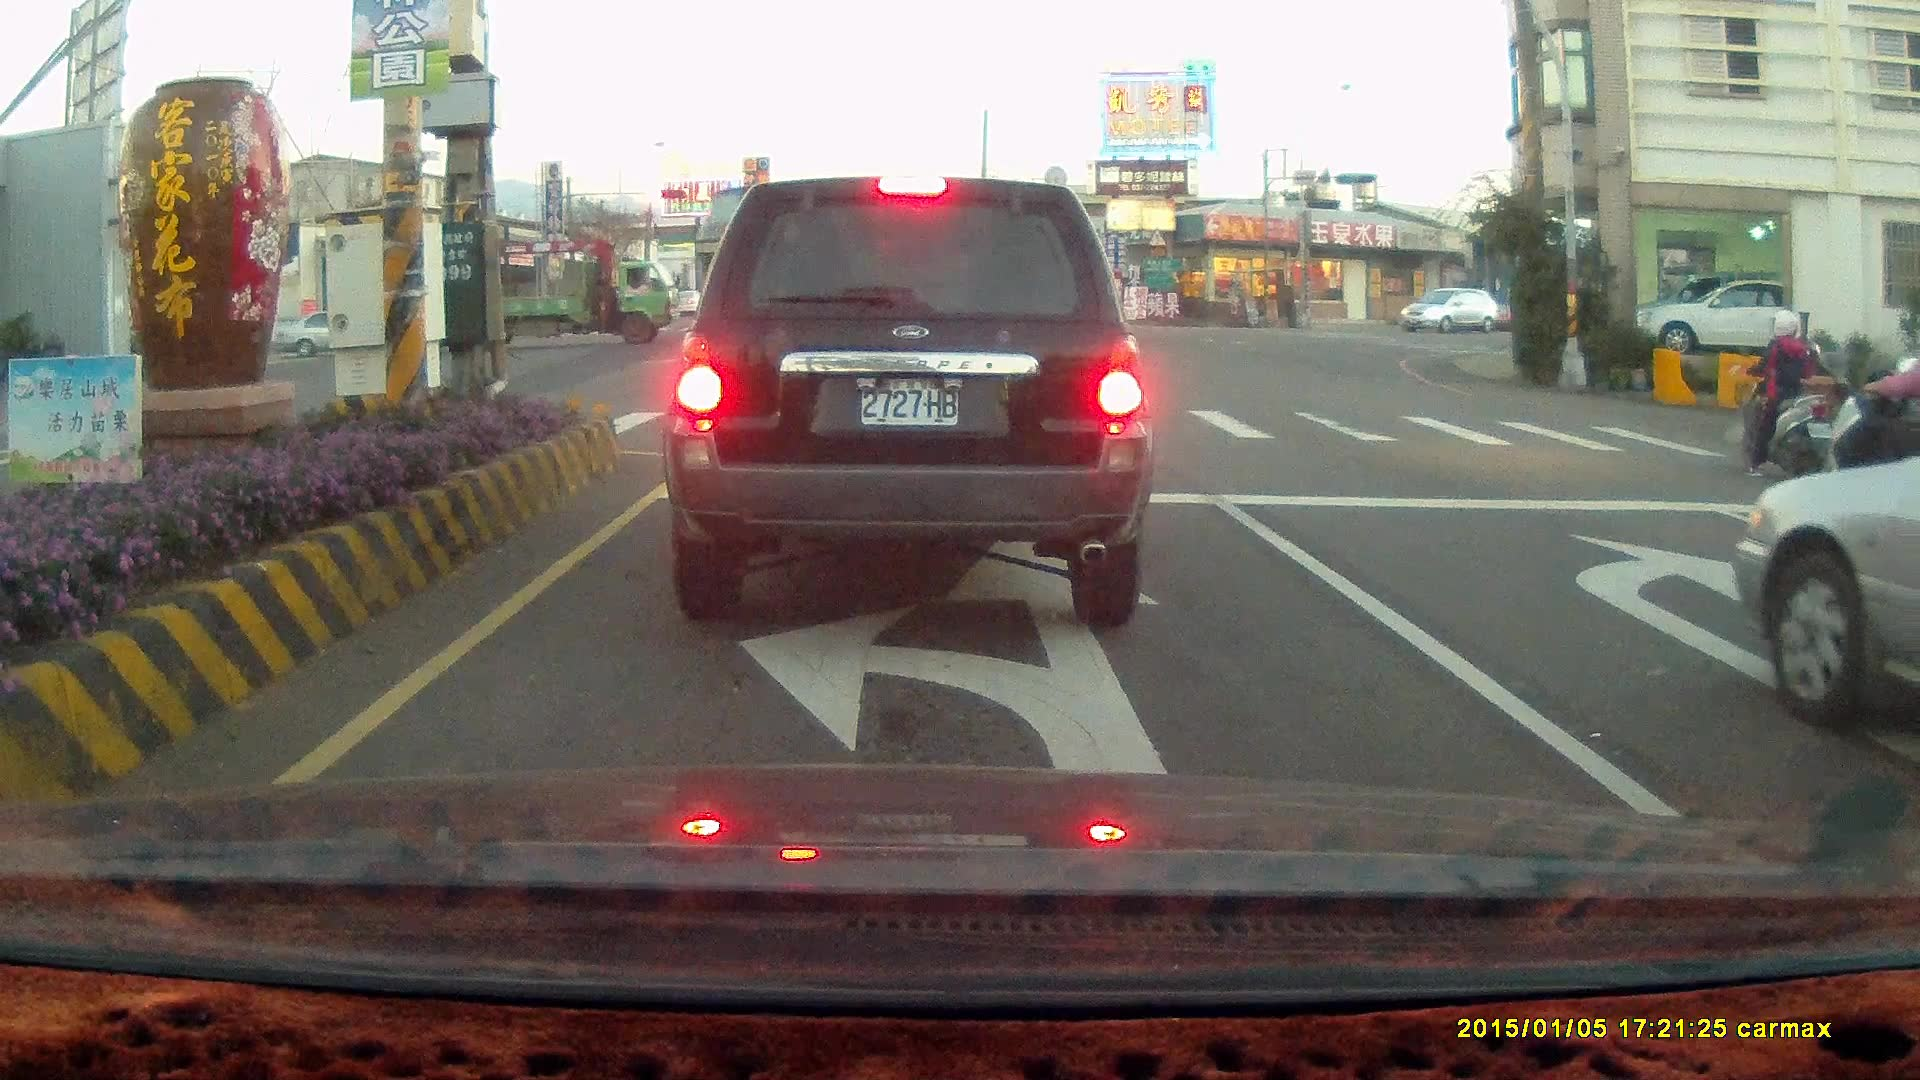rider: (1730, 305, 1833, 482), (1830, 311, 1919, 509)
vehicle: (660, 173, 1155, 630), (1735, 433, 1920, 759), (1738, 454, 1920, 722), (500, 254, 680, 347), (1628, 275, 1836, 356), (1642, 275, 1784, 356), (1896, 493, 1920, 836), (1400, 288, 1501, 338)
